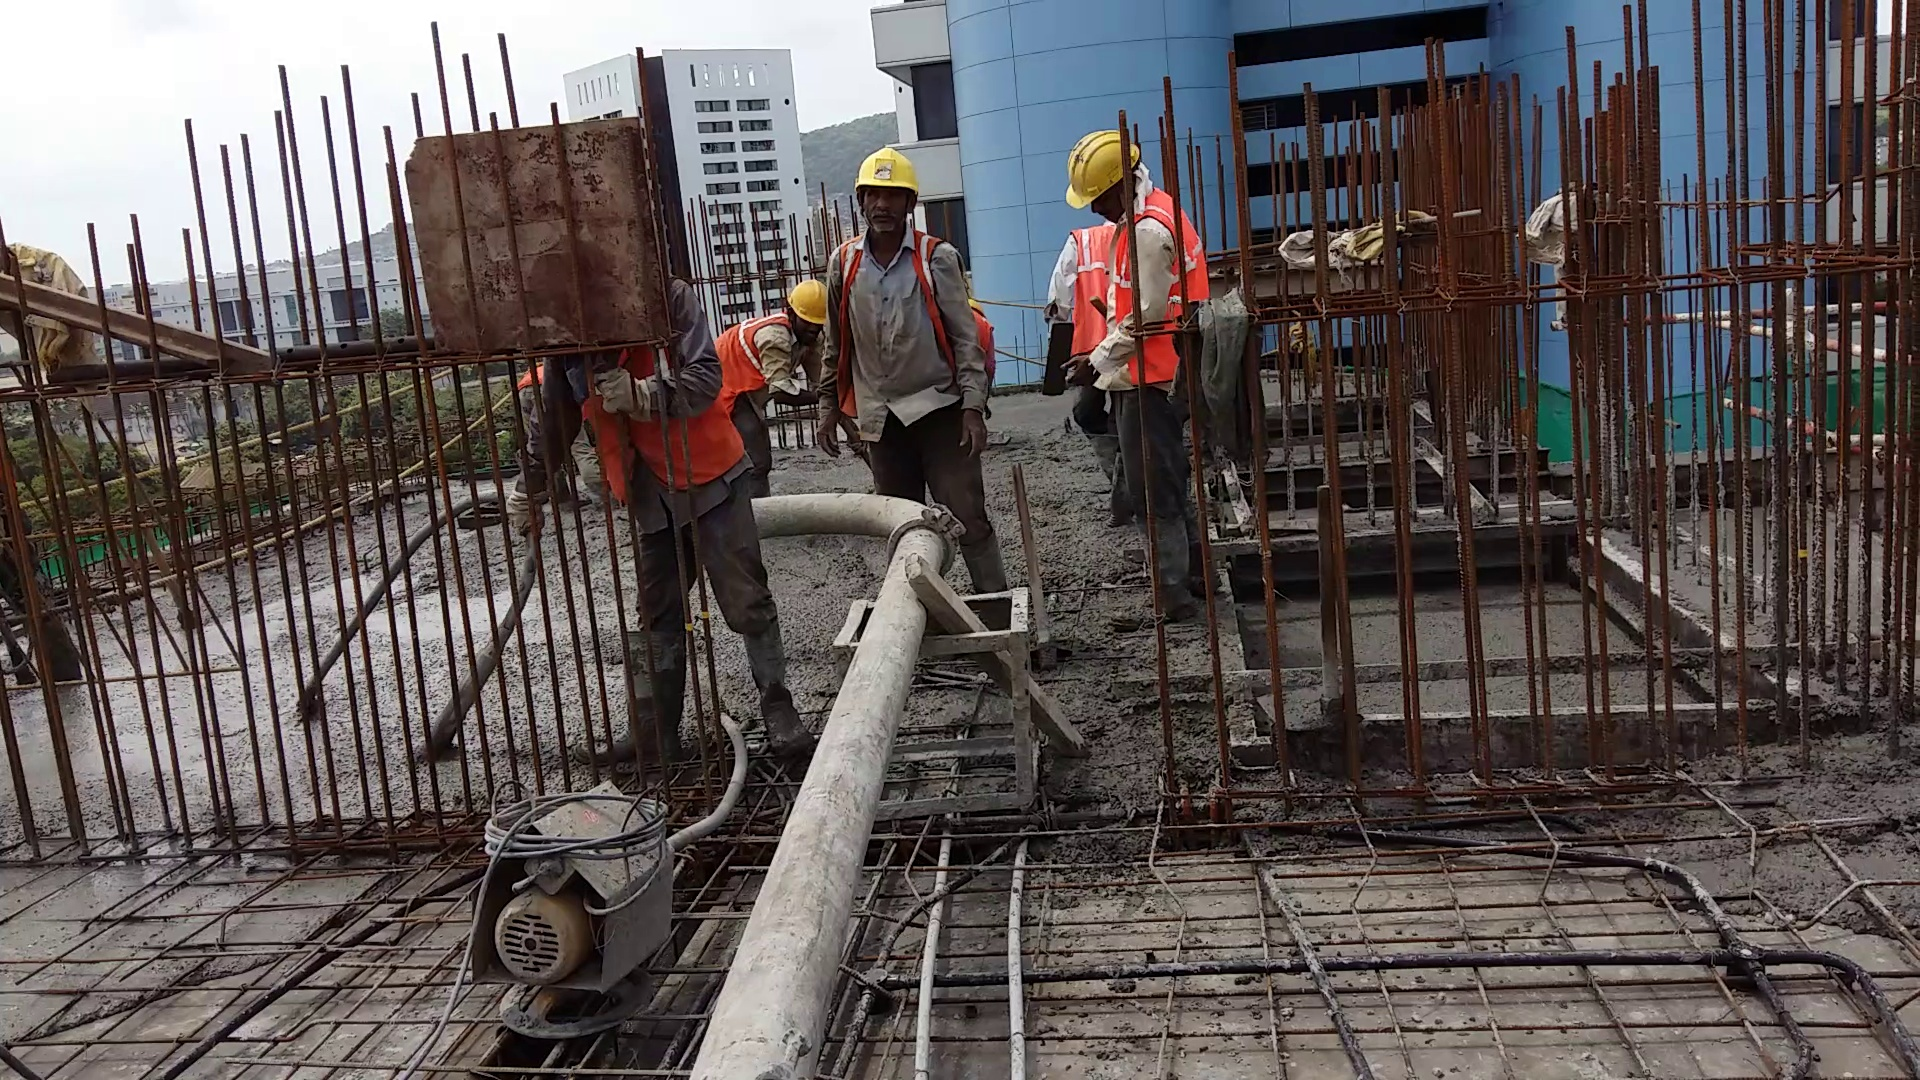SAFE: (823, 142, 963, 440), (1093, 119, 1178, 384), (707, 284, 823, 407)
